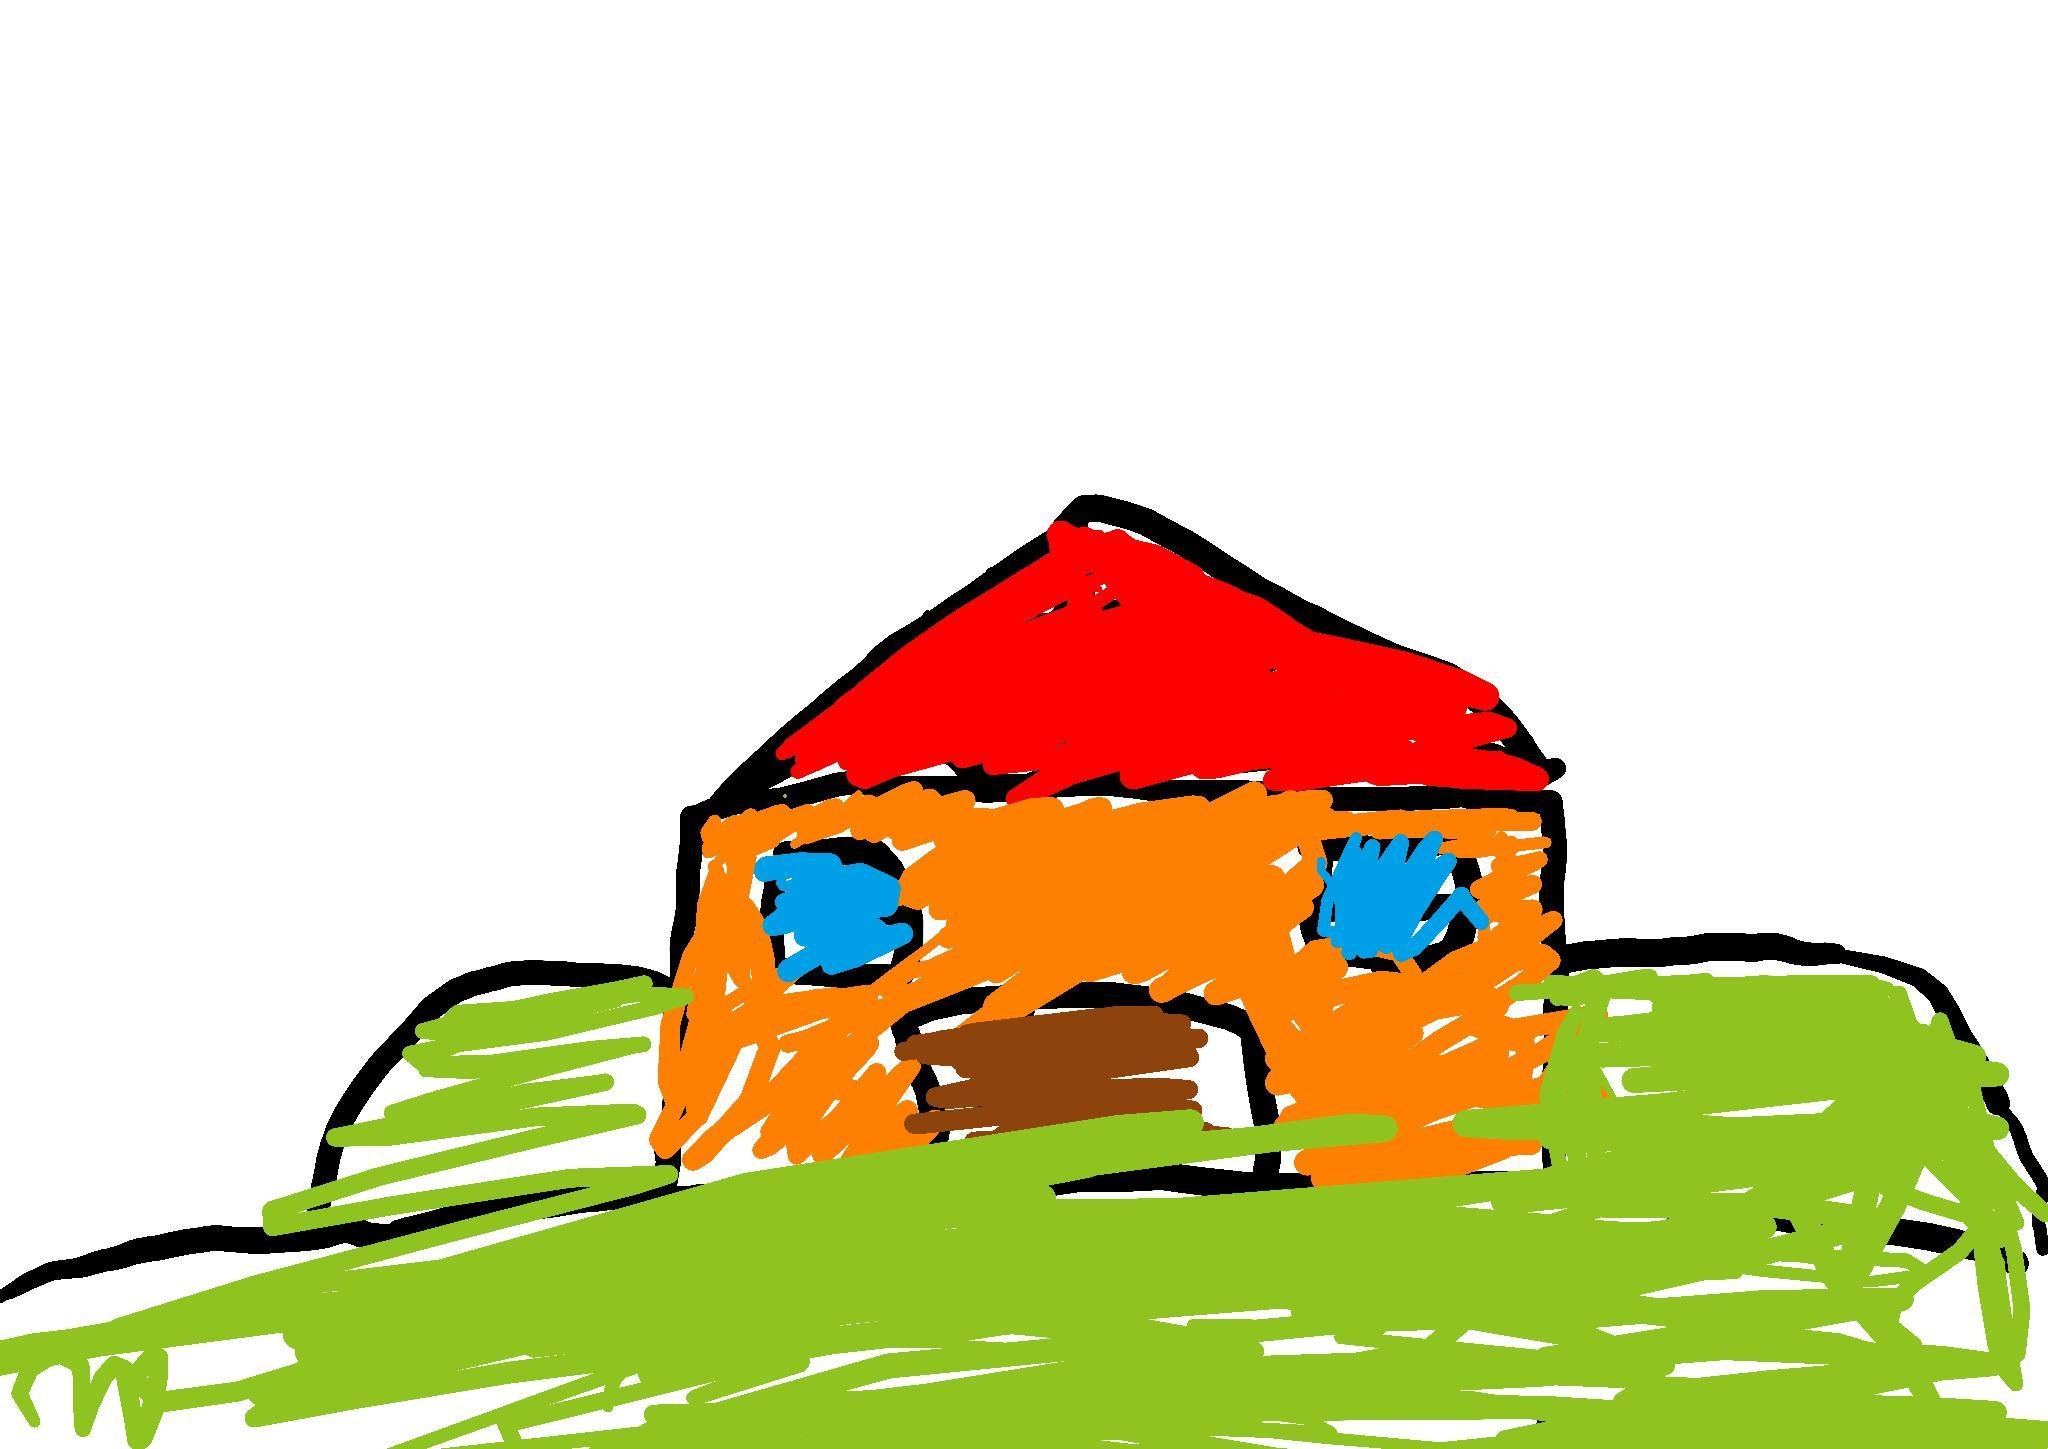door: (895, 982, 1276, 1135)
house: (651, 497, 1567, 1192)
roof: (690, 517, 1552, 819)
wall: (651, 772, 1563, 1186)
window: (754, 850, 911, 983), (1320, 831, 1476, 963)
